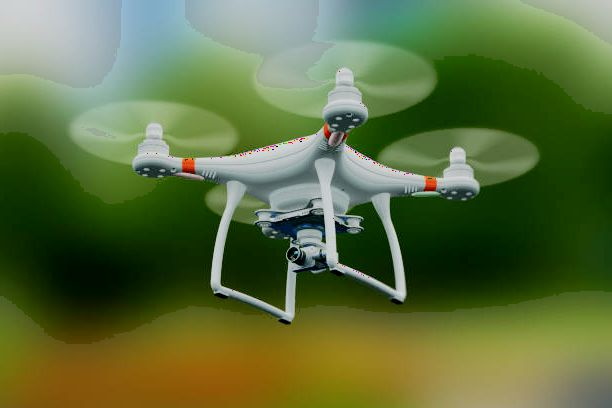Drone: (68, 37, 542, 332)
